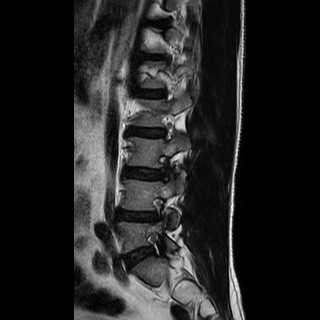RFS1: (142, 226, 165, 263)
RFS2: (146, 192, 168, 226)
